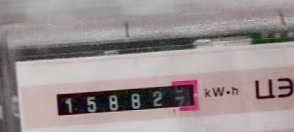1: (63, 96, 74, 115)
2: (151, 89, 163, 107)
5: (84, 95, 97, 113)
7: (173, 94, 185, 108)
8: (107, 93, 119, 111), (130, 92, 141, 109)
screen: (49, 76, 205, 121)
